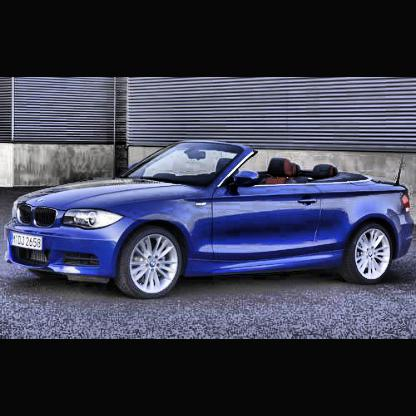BMW 1 Series Convertible 2012: (8, 141, 416, 299)
